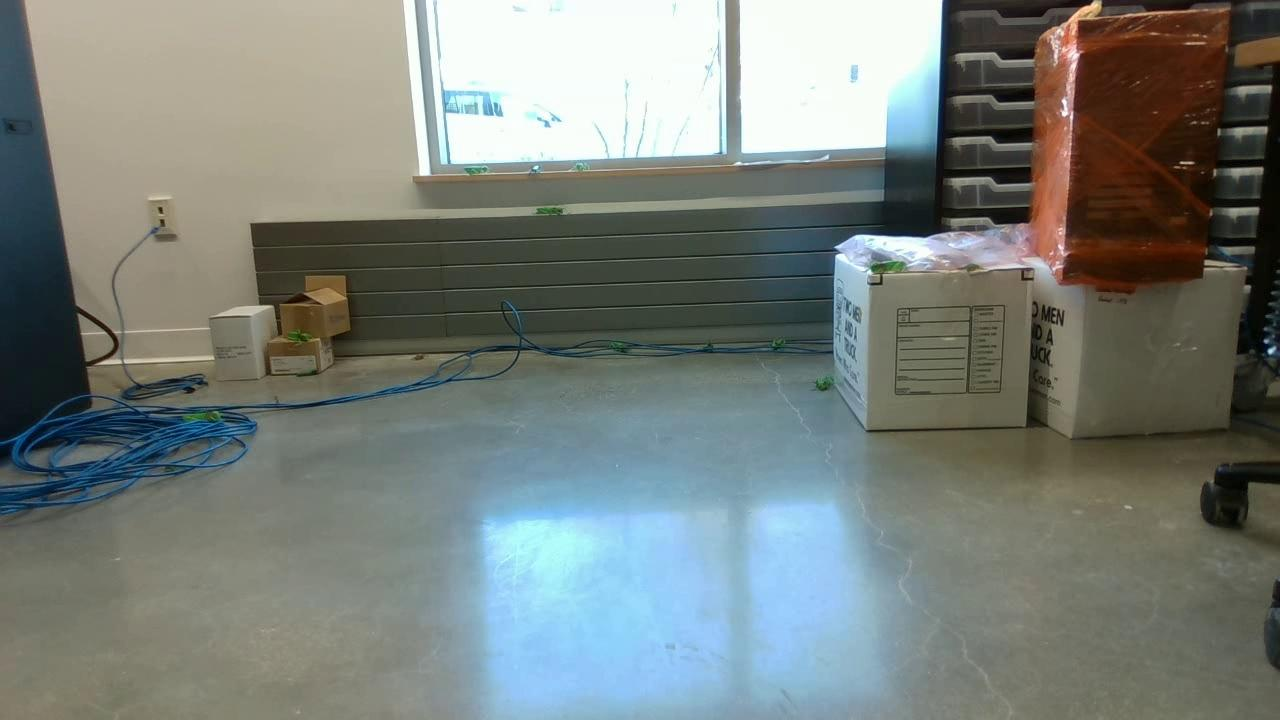grasshopper: (860, 257, 912, 276), (176, 408, 224, 426), (606, 337, 643, 355), (808, 371, 838, 393), (527, 201, 563, 217), (278, 326, 309, 344), (761, 334, 790, 350), (462, 162, 493, 175), (566, 159, 588, 175)
